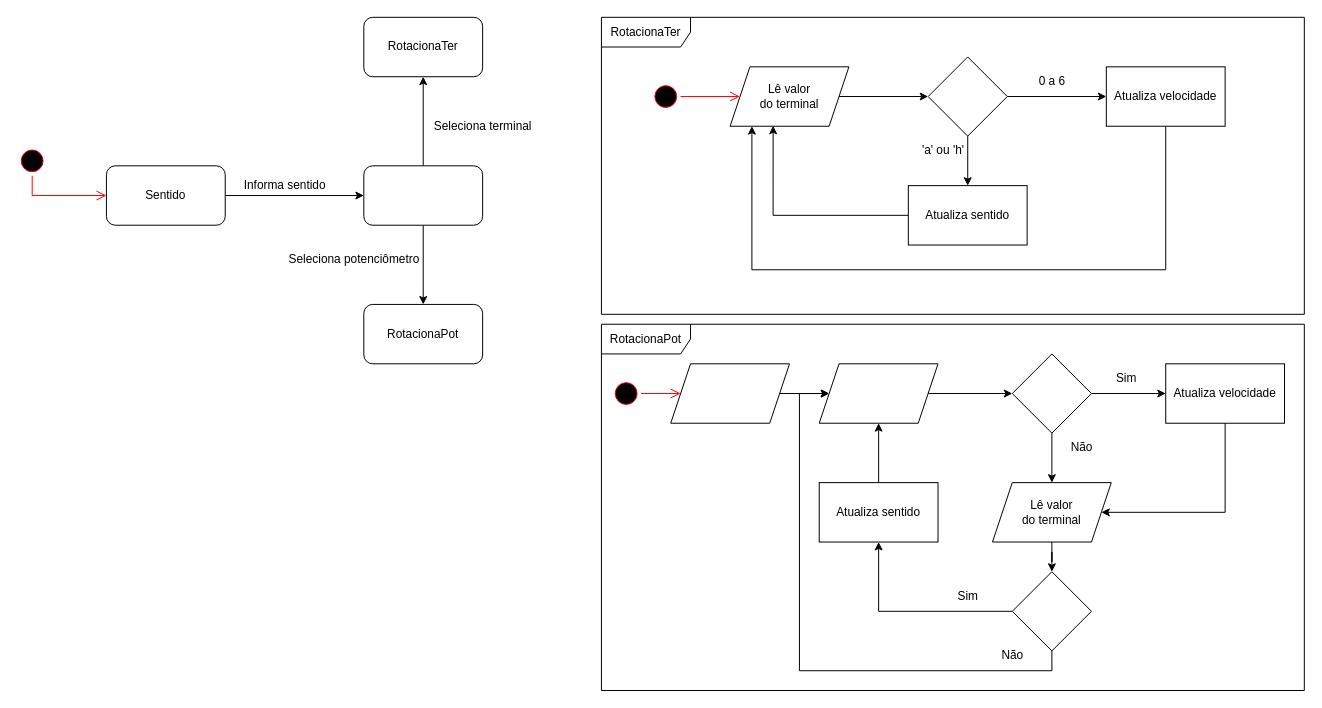
Image size: 1322x708. Some labels were removed from this diagram. The shapes that lost their labels are listed below. From the top down, each one's box as (x1, y1, x2, y2) in pixels, then its label:
(363, 165, 483, 225): Controle
(670, 363, 790, 423): Inicializa velocidade
(818, 363, 938, 423): Verifica o potenciômetro
(1011, 353, 1091, 433): Moveu?
(1011, 571, 1091, 651): 'a' ou 'h'?
